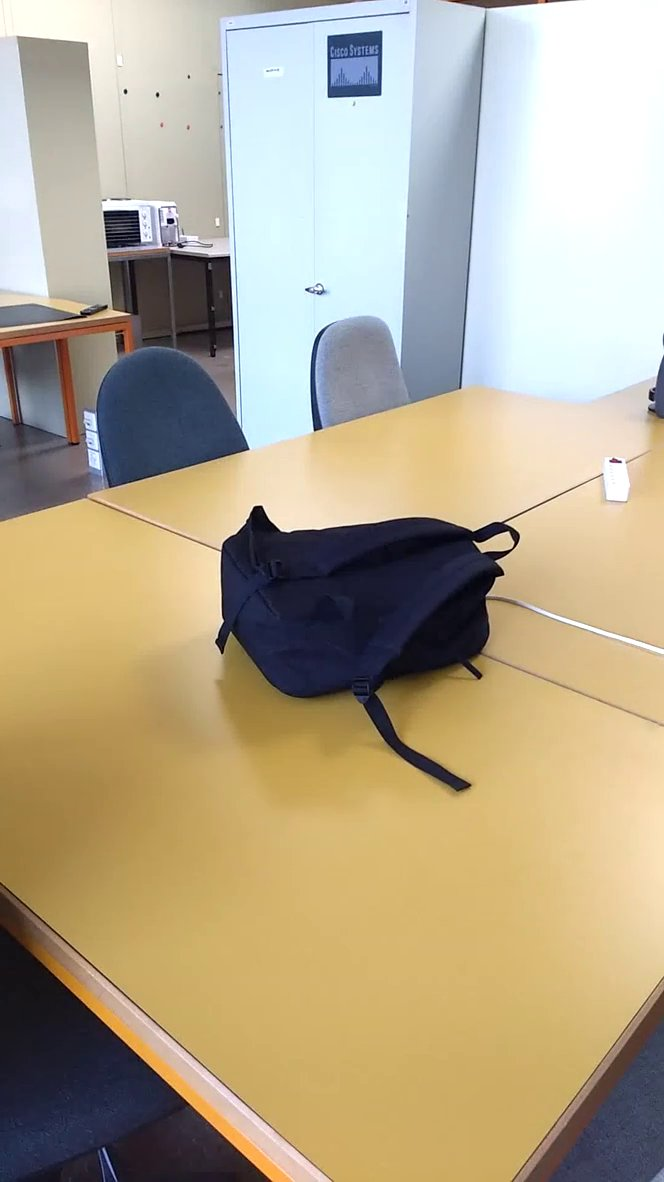bag: (201, 501, 534, 798)
chair: (94, 337, 255, 502), (301, 311, 425, 445)
